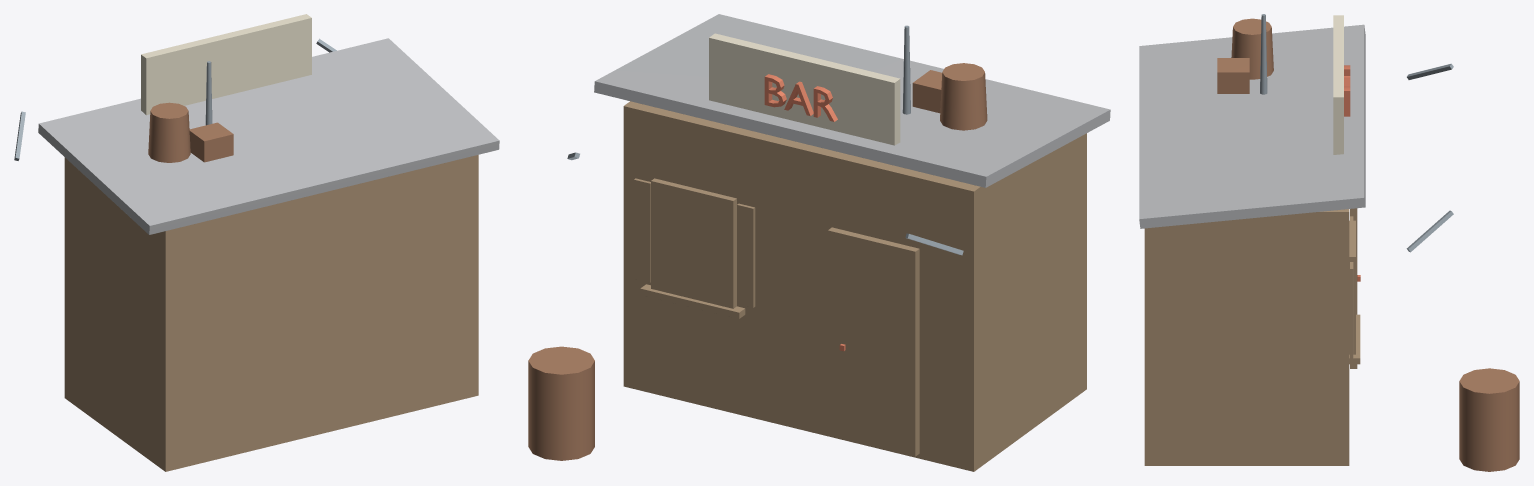
The model's file is shopfront_1_bar.glb.
3 renders of one model, left to right at view 1: azimuth 30°, elevation 25°; view 2: azimuth 150°, elevation 25°; view 3: azimuth 270°, elevation 25°, orthographic. The views are drawn at different scales.
Parts seen in each view (by area): view 1: shopfront_1_bar; view 2: shopfront_1_bar; view 3: shopfront_1_bar.
Part boxes in pixels (box(x1,y1,x2,y2)): shopfront_1_bar: box(14, 14, 499, 471); shopfront_1_bar: box(528, 14, 1110, 471); shopfront_1_bar: box(1139, 14, 1519, 471).
Bounding box in the file's own units: 3.83 × 3.55 × 3.53.
